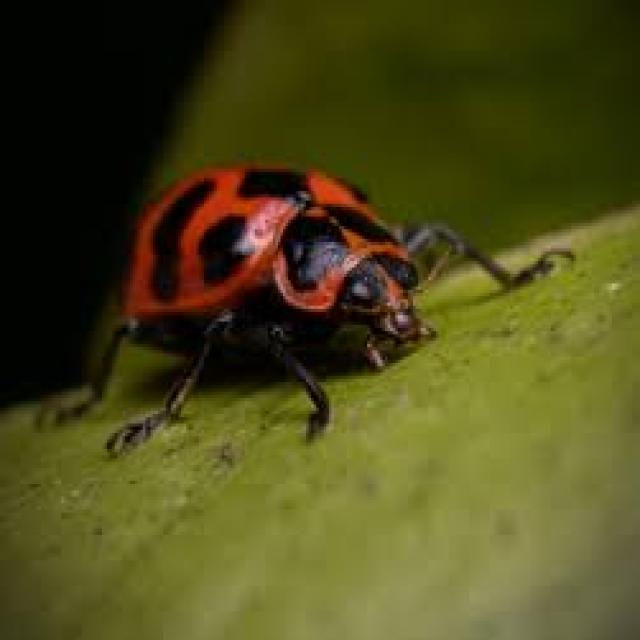bug: (35, 156, 585, 478)
